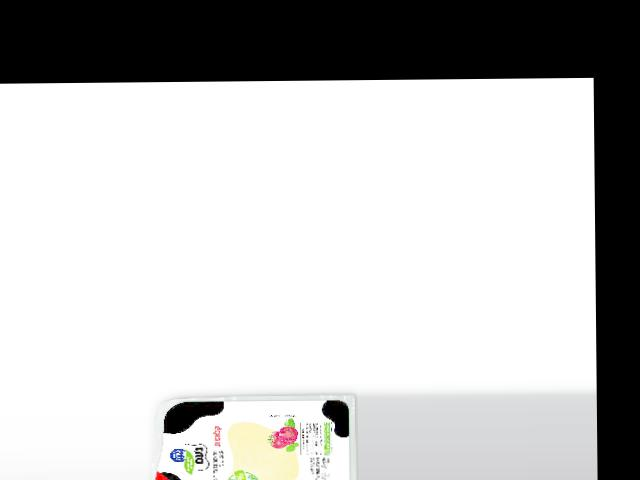cheese: (147, 394, 357, 480)
